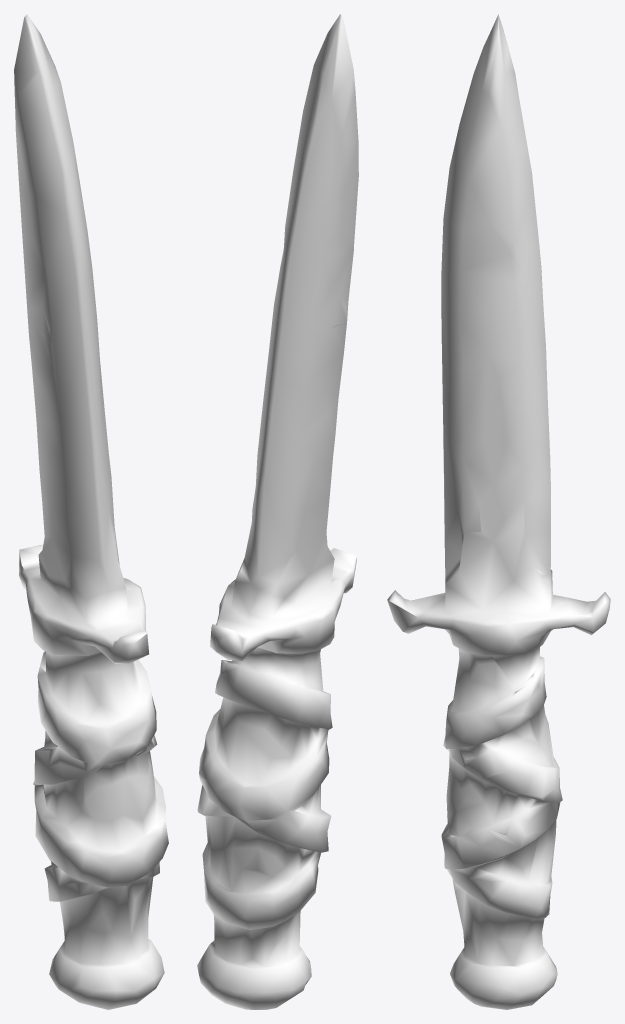
File: dagger_hunter.glb
3 renders of one model, left to right at view 1: azimuth 30°, elevation 25°; view 2: azimuth 150°, elevation 25°; view 3: azimuth 270°, elevation 25°, orthographic. The views are drawn at different scales.
Parts seen in each view (by area): view 1: dagger_hunter; view 2: dagger_hunter; view 3: dagger_hunter.
Boxes of the visible parts, bbox=[...] form: dagger_hunter: bbox=[14, 14, 168, 1009]; dagger_hunter: bbox=[197, 14, 358, 1009]; dagger_hunter: bbox=[387, 14, 610, 1009].
Size of the model in its own units: 0.0715 by 0.4688 by 0.0997.
Materials: 1 (1 with a texture image).
